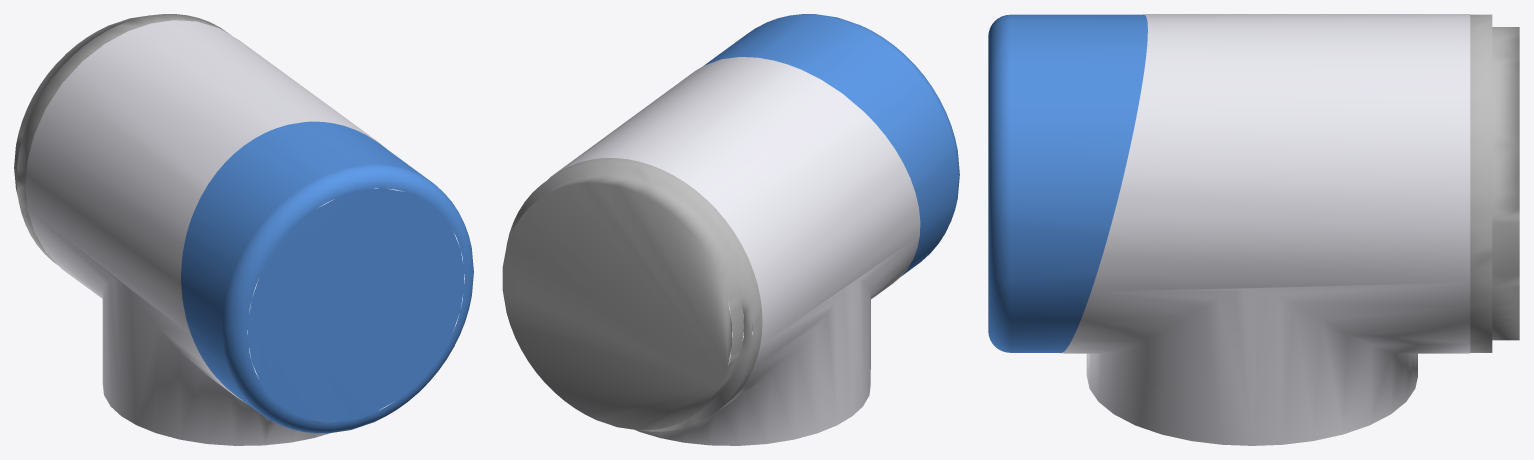
The picture shows the model from 3 angles, left to right: view 1: azimuth 30°, elevation 25°; view 2: azimuth 150°, elevation 25°; view 3: azimuth 270°, elevation 25°; orthographic projection. The views are drawn at different scales.
Parts seen in each view (by area): view 1: mesh; view 2: mesh; view 3: mesh.
Boxes of the visible parts, x1,y1,x2,y2 form: mesh: (14, 14, 473, 445); mesh: (502, 14, 959, 445); mesh: (988, 14, 1519, 445).
Bounding box in the file's own units: 77 × 86.5 × 120.
